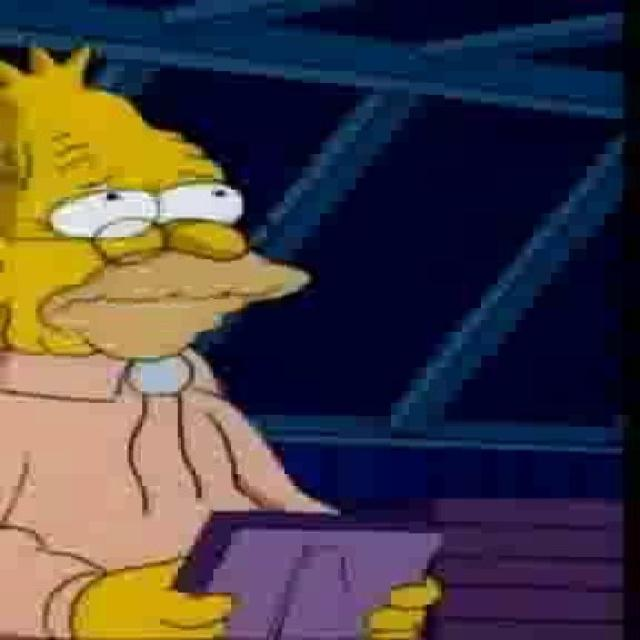Abraham Grampa Simpson: (1, 45, 315, 368)
